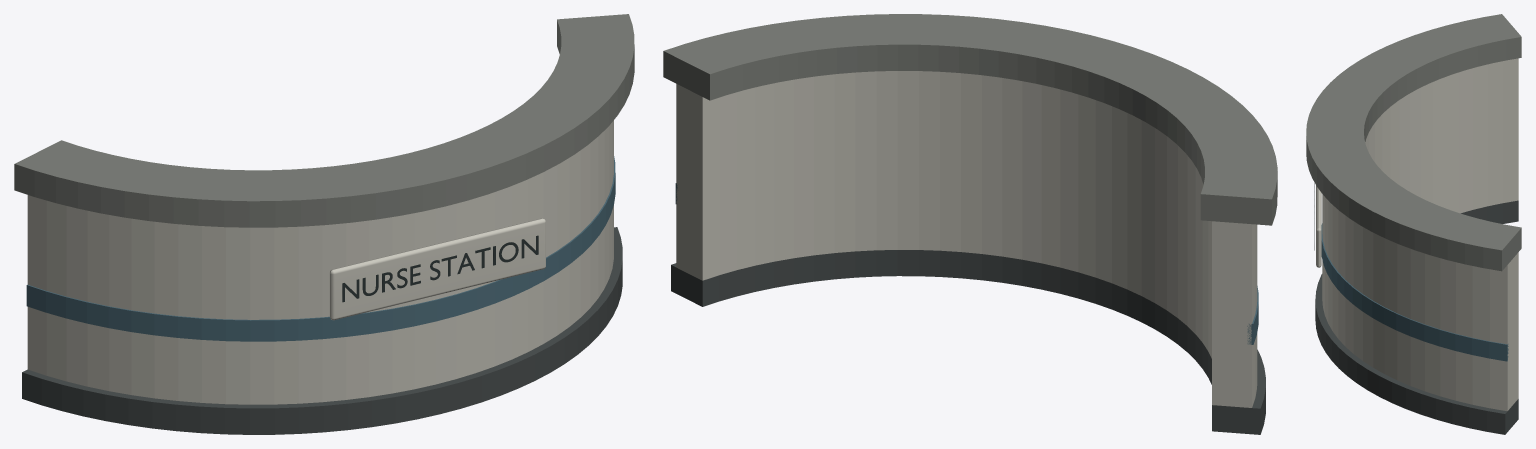
The model's file is NusrseDoor.fbx.
The picture shows the model from 3 angles, left to right: view 1: azimuth 30°, elevation 25°; view 2: azimuth 150°, elevation 25°; view 3: azimuth 270°, elevation 25°; orthographic projection. The views are drawn at different scales.
Parts seen in each view (by area): view 1: NurseStation_MainBody_LOD0; view 2: NurseStation_MainBody_LOD0; view 3: NurseStation_MainBody_LOD0.
Part boxes in pixels (left/top/right/bottom): NurseStation_MainBody_LOD0: left=14, top=14, right=634, bottom=434; NurseStation_MainBody_LOD0: left=663, top=14, right=1277, bottom=434; NurseStation_MainBody_LOD0: left=1306, top=14, right=1521, bottom=434.
Bounding box in the file's own units: 242 × 90 × 93.43.
